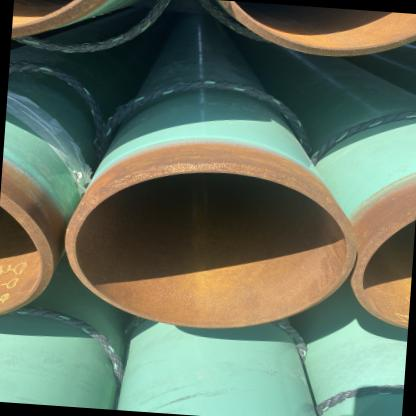clean: (197, 148, 241, 192)
